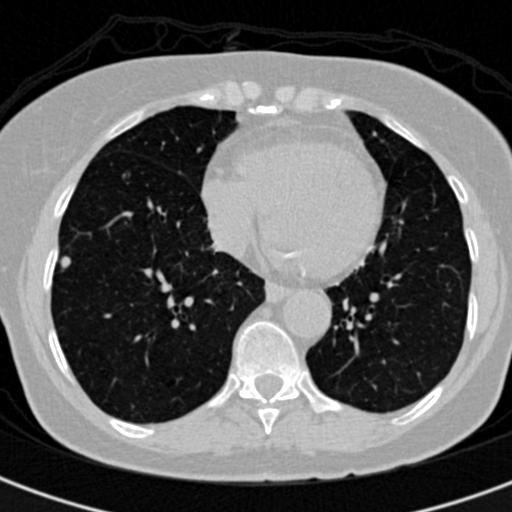nodule: (57, 253, 74, 270)
